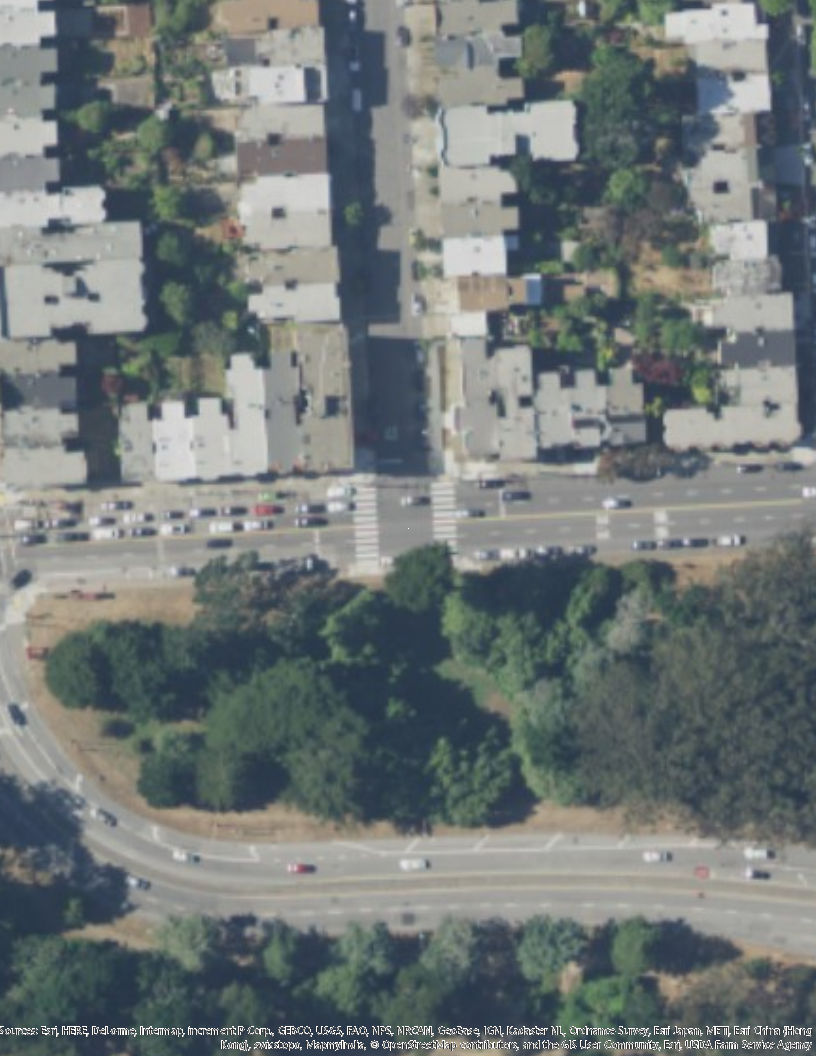zebracross: (352, 484, 382, 567), (431, 477, 455, 545)
